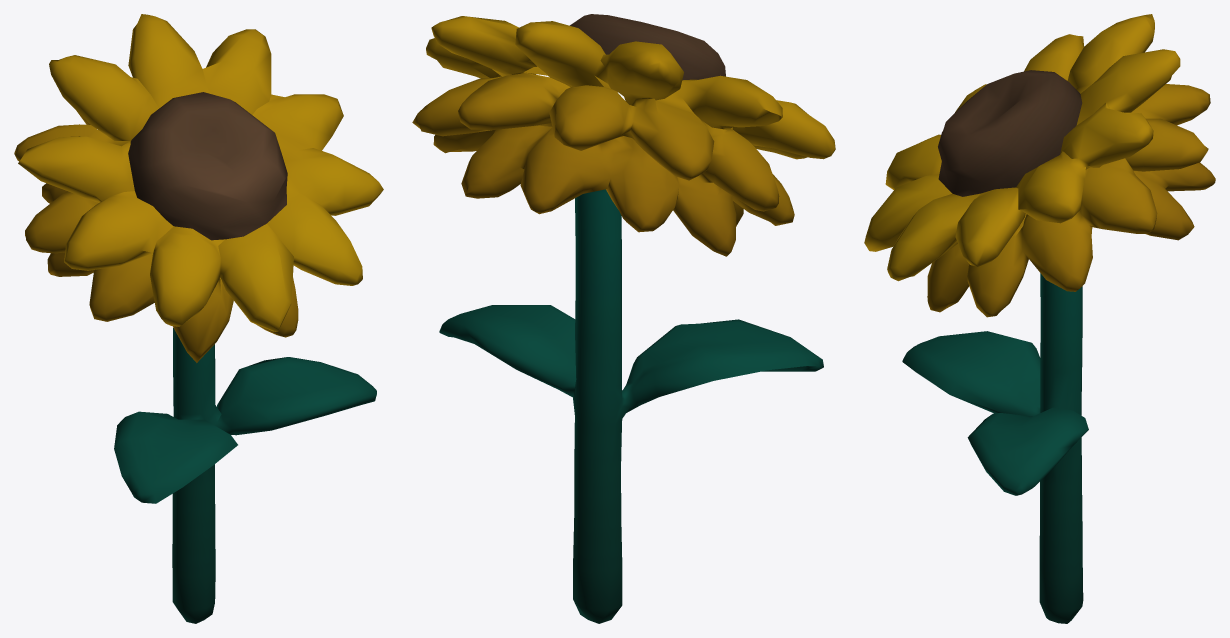
The model's file is Sunflower.glb.
3 renders of one model, left to right at view 1: azimuth 30°, elevation 25°; view 2: azimuth 150°, elevation 25°; view 3: azimuth 270°, elevation 25°, orthographic. The views are drawn at different scales.
Visible parts, largest first — view 1: geometry_0; view 2: geometry_0; view 3: geometry_0.
Part boxes in pixels (x1,y1,x2,y2): geometry_0: [14, 14, 383, 623]; geometry_0: [412, 14, 835, 623]; geometry_0: [864, 14, 1215, 623].
Bounding box in the file's own units: 0.6112 × 0.9911 × 0.5533.
Materials: 1 (1 with a texture image).
